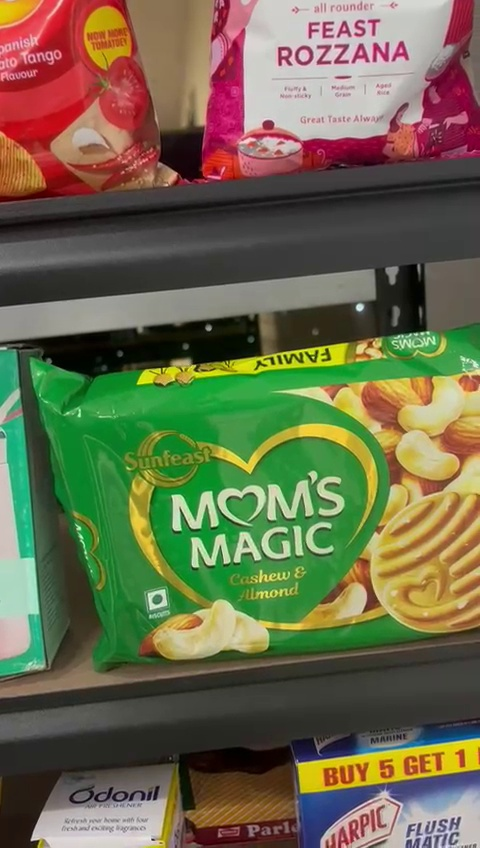Moms magic: (36, 361, 480, 651)
